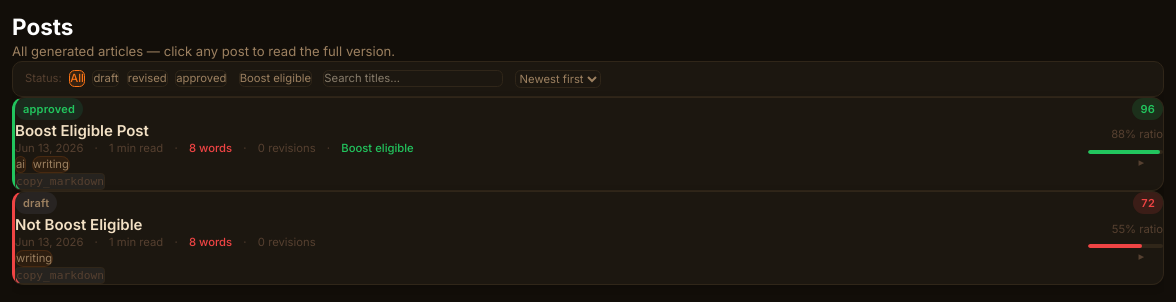
PostsPage › Boost filter › hides non-boost-eligible posts when Boost filter is active
The width and height of the screenshot is (1176, 302).
Click the button with test id "filter-boost" at (275, 79), box [239,70,312,87]
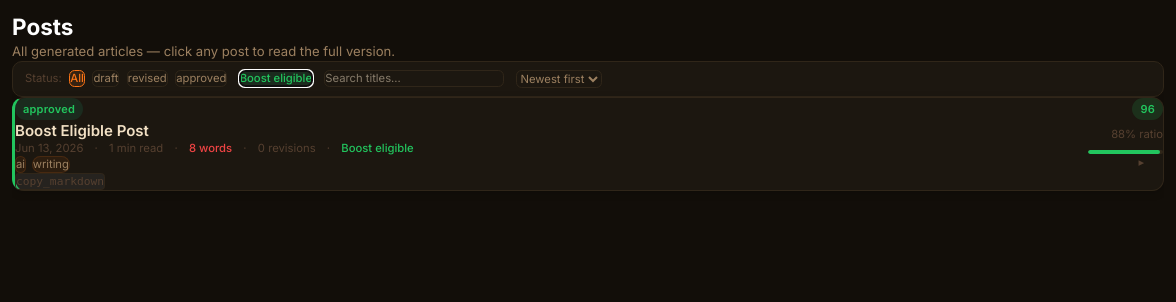
Check: the link "Not Boost Eligible" is gone
